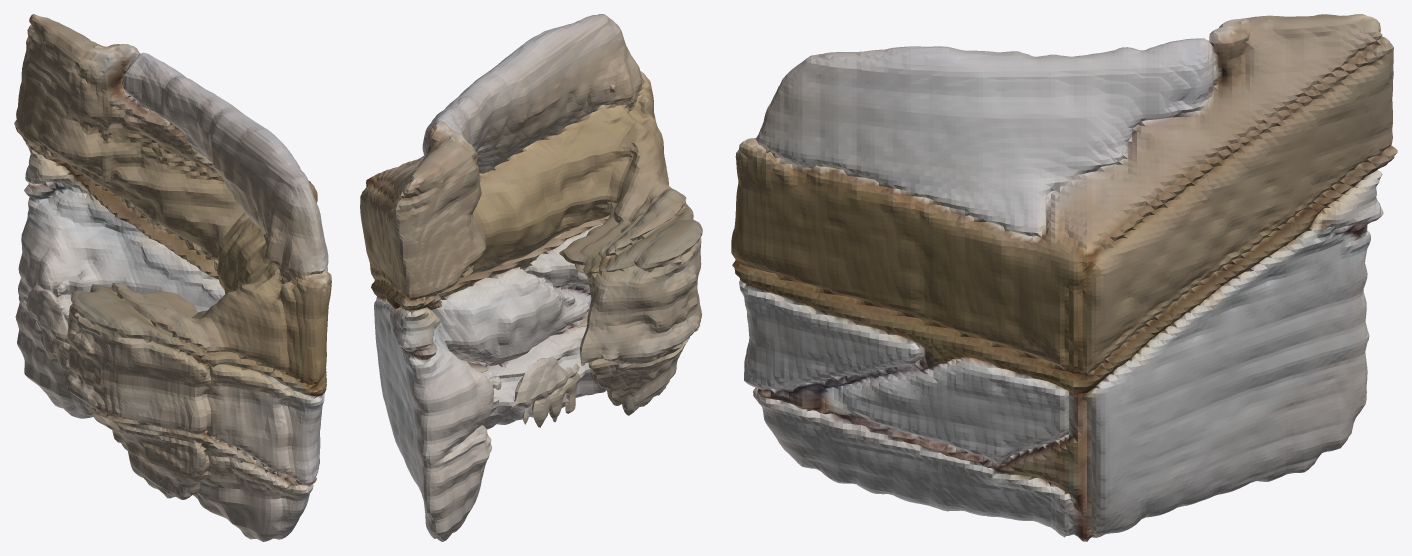
3 renders of one model, left to right at view 1: azimuth 30°, elevation 25°; view 2: azimuth 150°, elevation 25°; view 3: azimuth 270°, elevation 25°, orthographic. The views are drawn at different scales.
Visible parts, largest first — view 1: world; view 2: world; view 3: world.
Boxes of the visible parts, x1,y1,x2,y2 form: world: [14, 14, 331, 541]; world: [360, 14, 702, 541]; world: [731, 14, 1397, 541].
Size of the model in its own units: 0.5923 by 0.7746 by 1.01.
